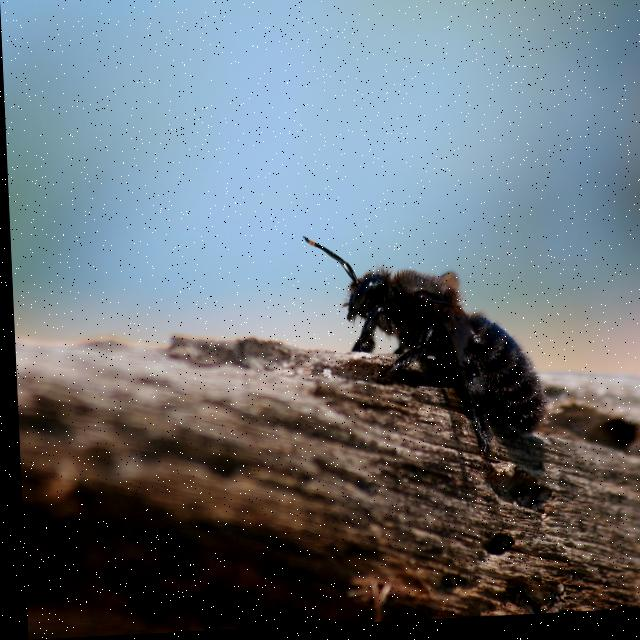Xylocopa: (290, 212, 572, 507)
